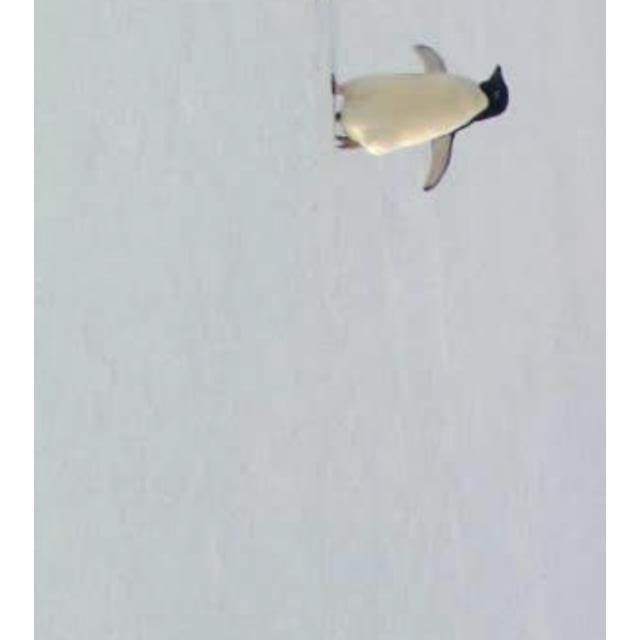penguin: (329, 43, 509, 193)
